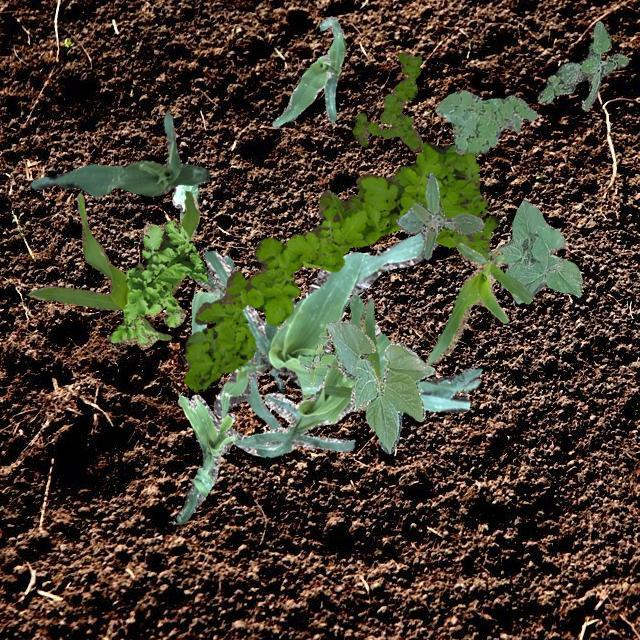crop: (204, 232, 481, 416), (232, 294, 422, 456), (27, 190, 198, 338), (190, 254, 280, 428), (30, 110, 208, 196), (324, 320, 434, 452), (424, 242, 532, 364), (496, 200, 582, 302), (272, 15, 344, 126), (176, 393, 236, 522), (322, 298, 380, 397), (170, 182, 198, 218)
weed: (182, 140, 498, 392), (108, 220, 206, 348), (536, 20, 628, 110), (396, 172, 482, 258), (352, 50, 422, 150), (434, 89, 536, 154), (460, 150, 490, 260), (298, 330, 336, 386)
